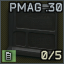Remington M700 .308 Magpul PMAG AC 5-round magazine: (0, 0, 64, 64)
